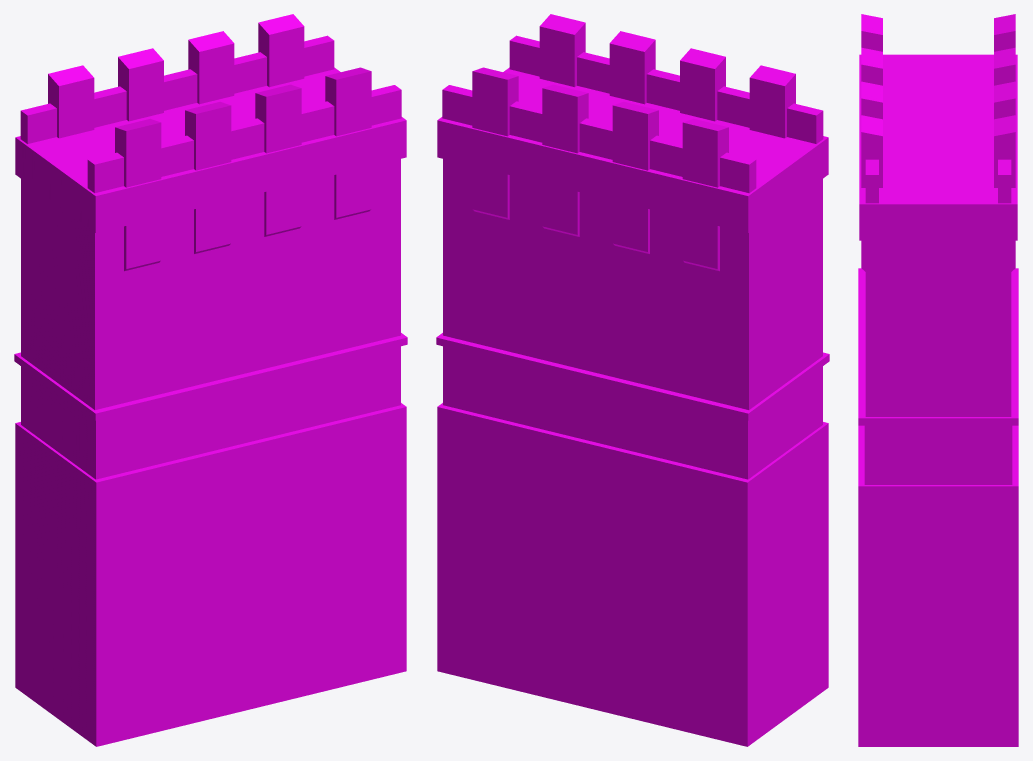
Rendered from athen_wall_short.glb.
3 renders of one model, left to right at view 1: azimuth 30°, elevation 25°; view 2: azimuth 150°, elevation 25°; view 3: azimuth 270°, elevation 25°, orthographic.
Visible parts, largest first — view 1: wall_short-mesh; view 2: wall_short-mesh; view 3: wall_short-mesh.
Boxes of the visible parts, x1,y1,x2,y2 form: wall_short-mesh: (14, 14, 407, 746); wall_short-mesh: (436, 14, 829, 746); wall_short-mesh: (858, 14, 1018, 746).
Size of the model in its own units: 12.42 by 23.08 by 5.61.
